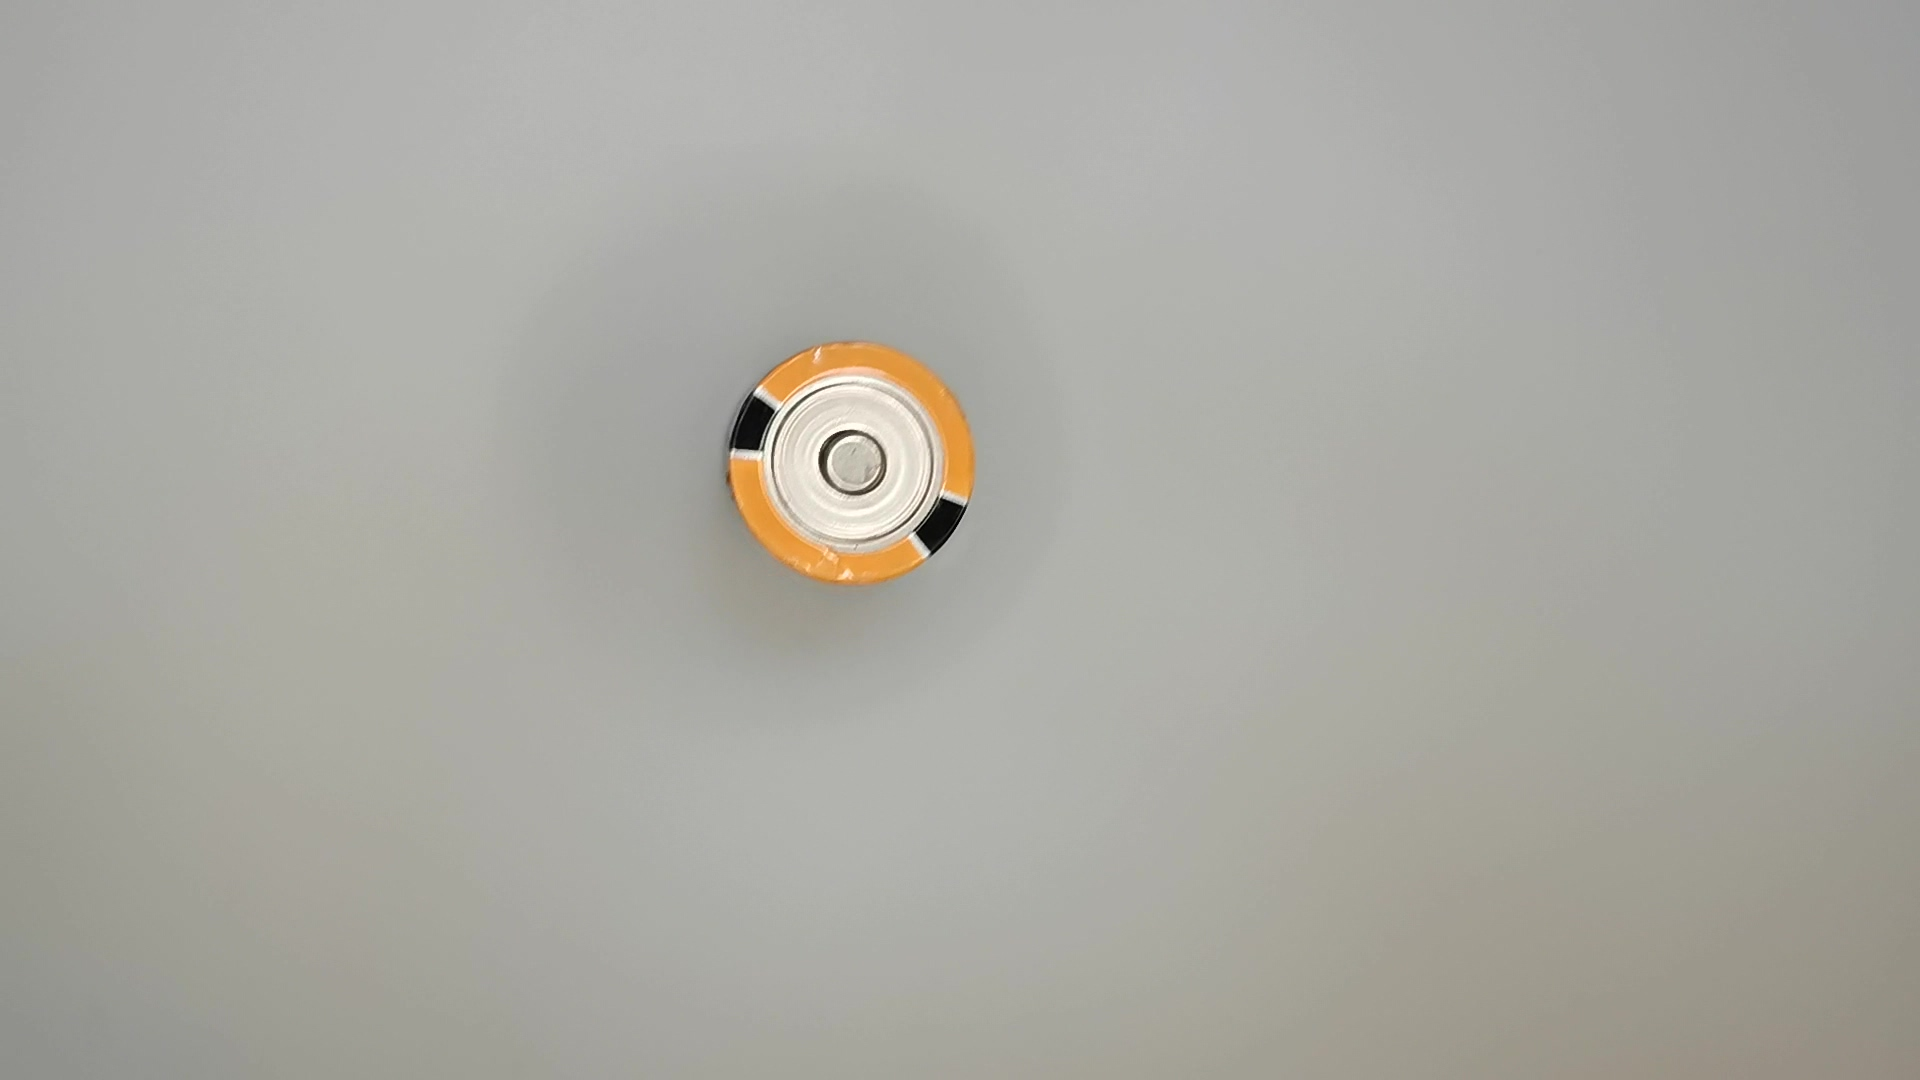battery: (725, 334, 986, 593)
